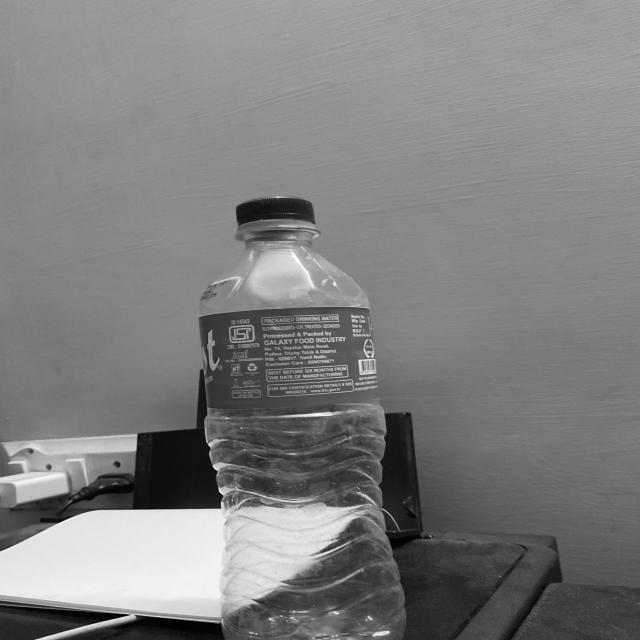Good-cap-Df0S: (233, 194, 318, 234)
